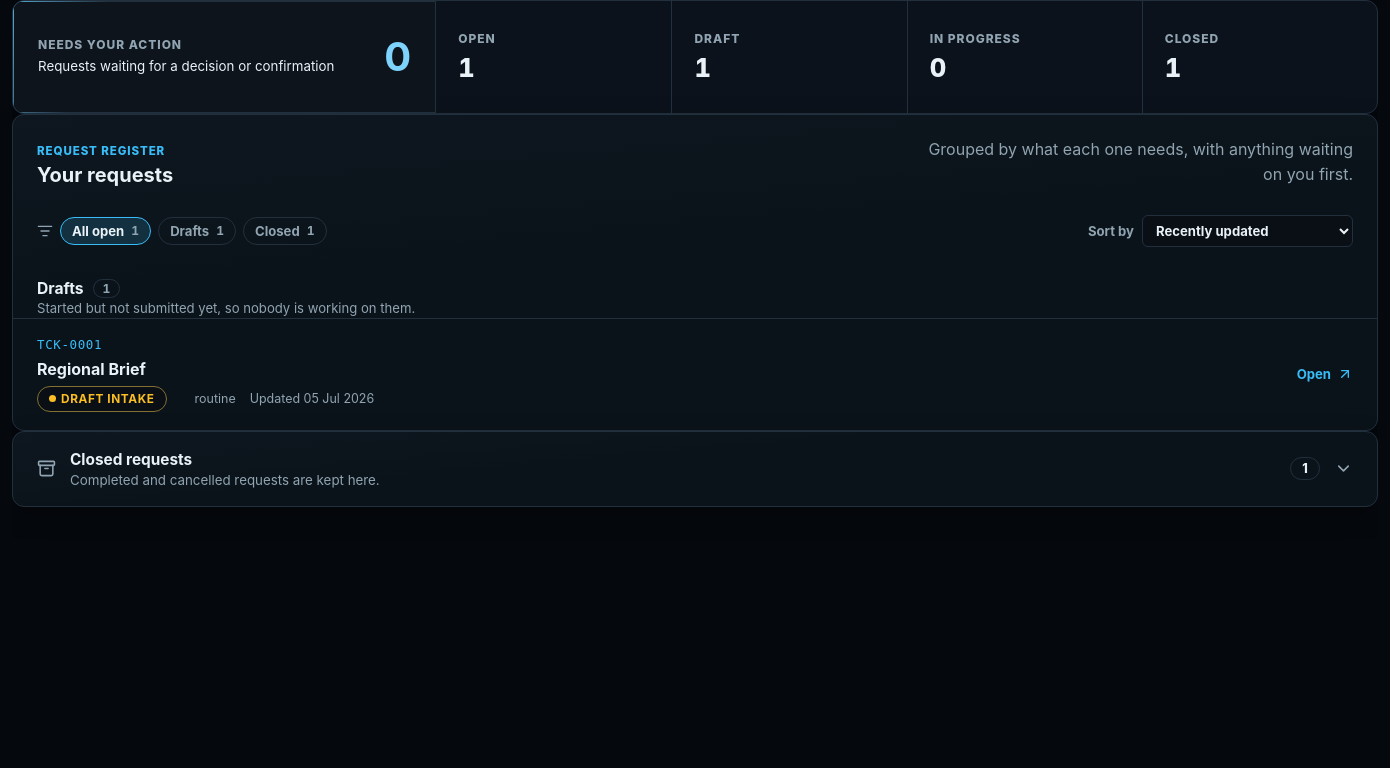
keeps closed requests in a disclosure that is collapsed by default
expect the heading "Your requests" is shown: met, box [37,163,173,187]
expect the button "TCK-0001" is shown: met, box [13,319,1377,430]
Click the text "Closed requests": (131, 459) [70,450,192,469]
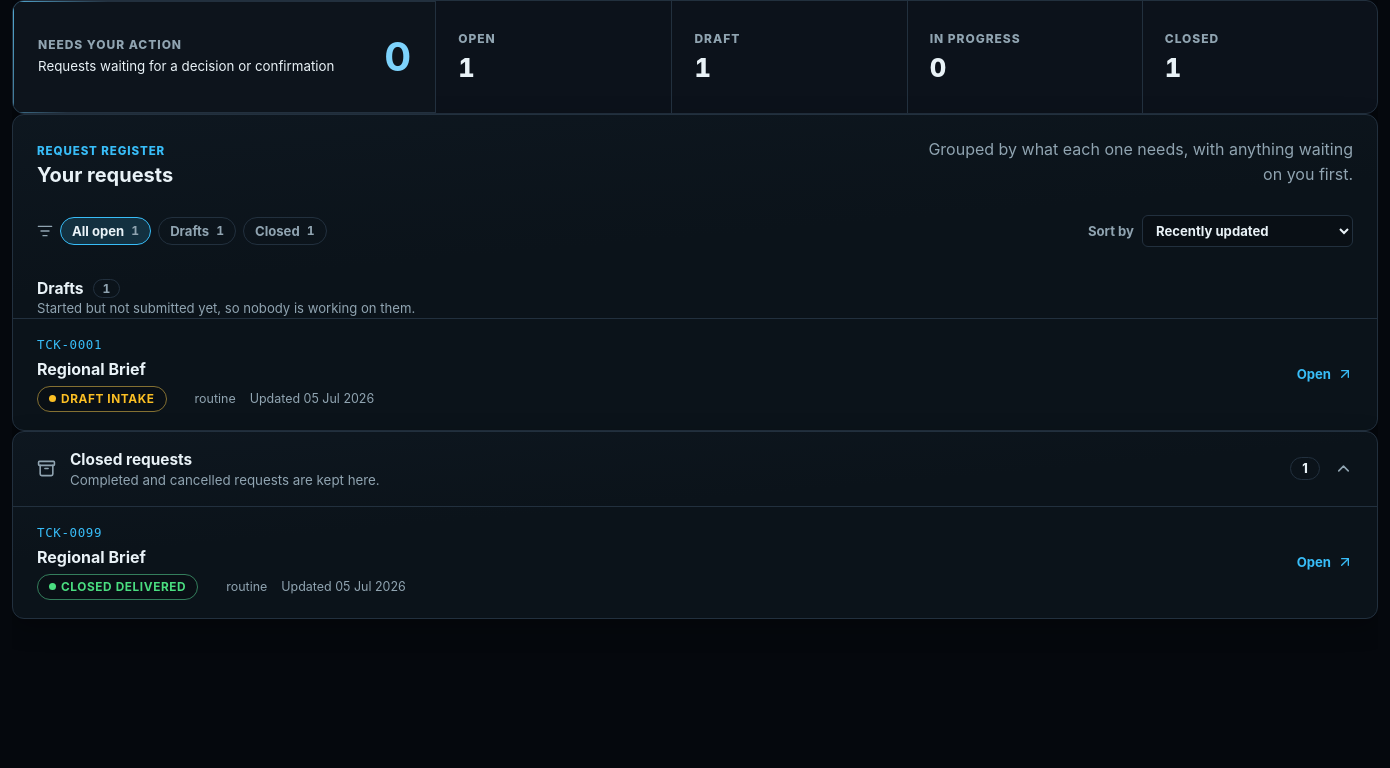
expect the button "TCK-0099" is shown: met, box [13,507,1377,618]
